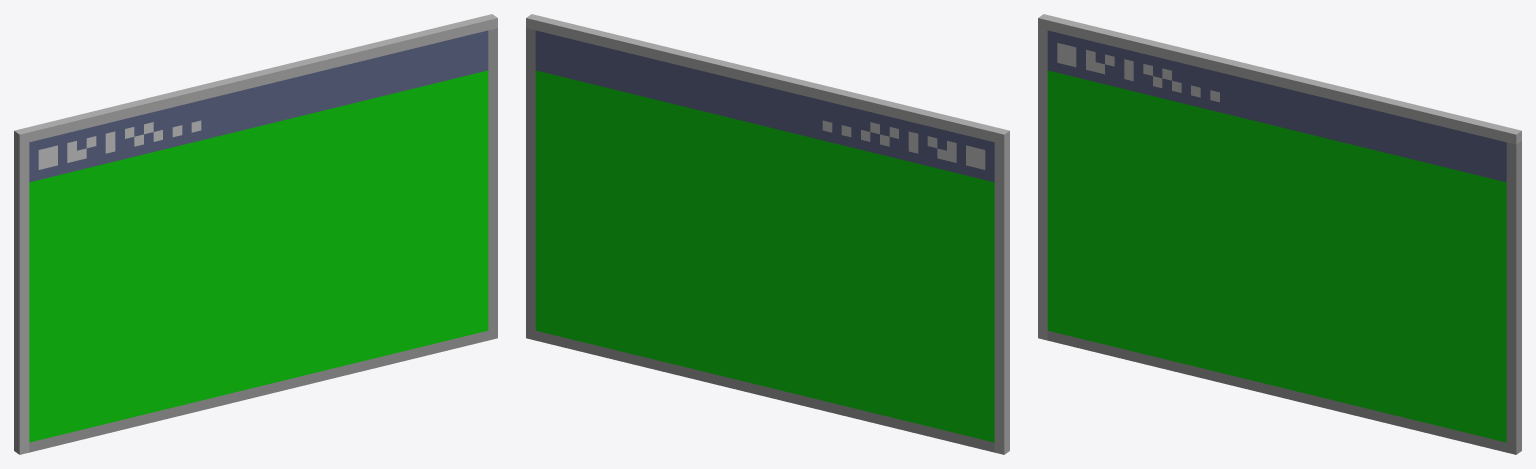
3 renders of one model, left to right at view 1: azimuth 30°, elevation 25°; view 2: azimuth 150°, elevation 25°; view 3: azimuth 330°, elevation 25°, orthographic.
Bounding box in the file's own units: 1 × 0.64 × 0.02.
